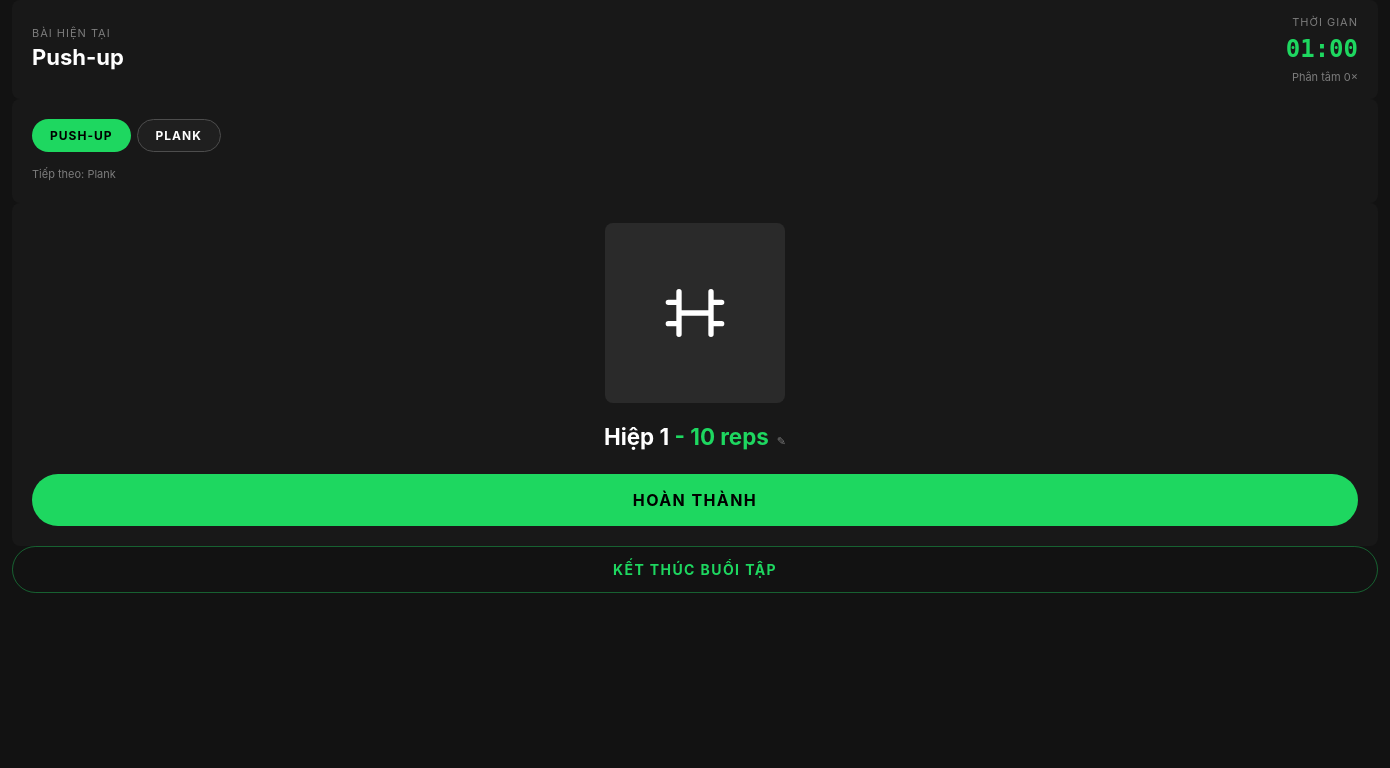
Test: WorkoutSession — màn tập trung tối giản (016) › bài duration tự ghi khi đếm về 0 rồi chuyển màn nghỉ
The width and height of the screenshot is (1390, 768).
What coordinates should you click on to do the following:
click the button "Plank"
I would click on:
 (179, 136)
Its box is [137,119,221,152].
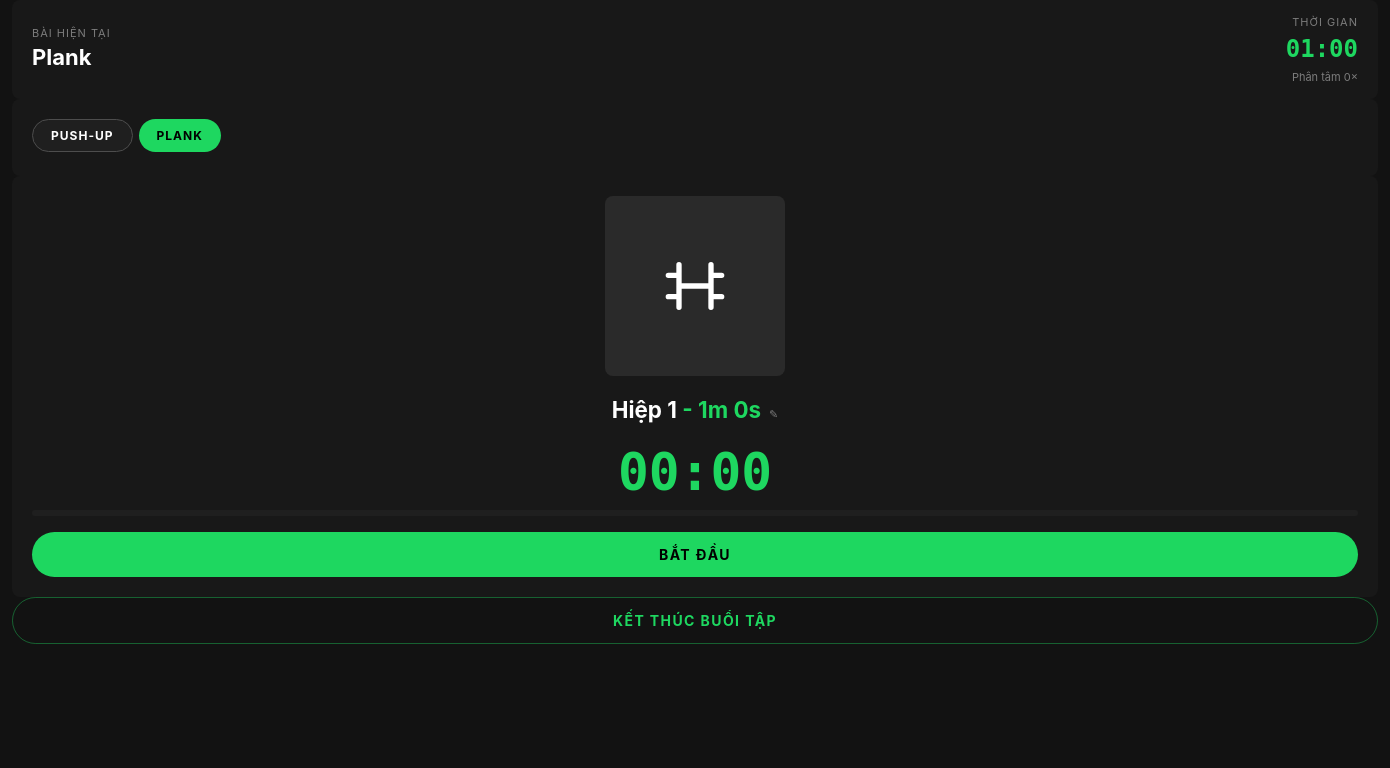
What coordinates should you click on to do the following:
click the button "Bắt đầu"
I would click on:
 (695, 555)
Its box is [32,532,1358,577].
Wait 60000 ms
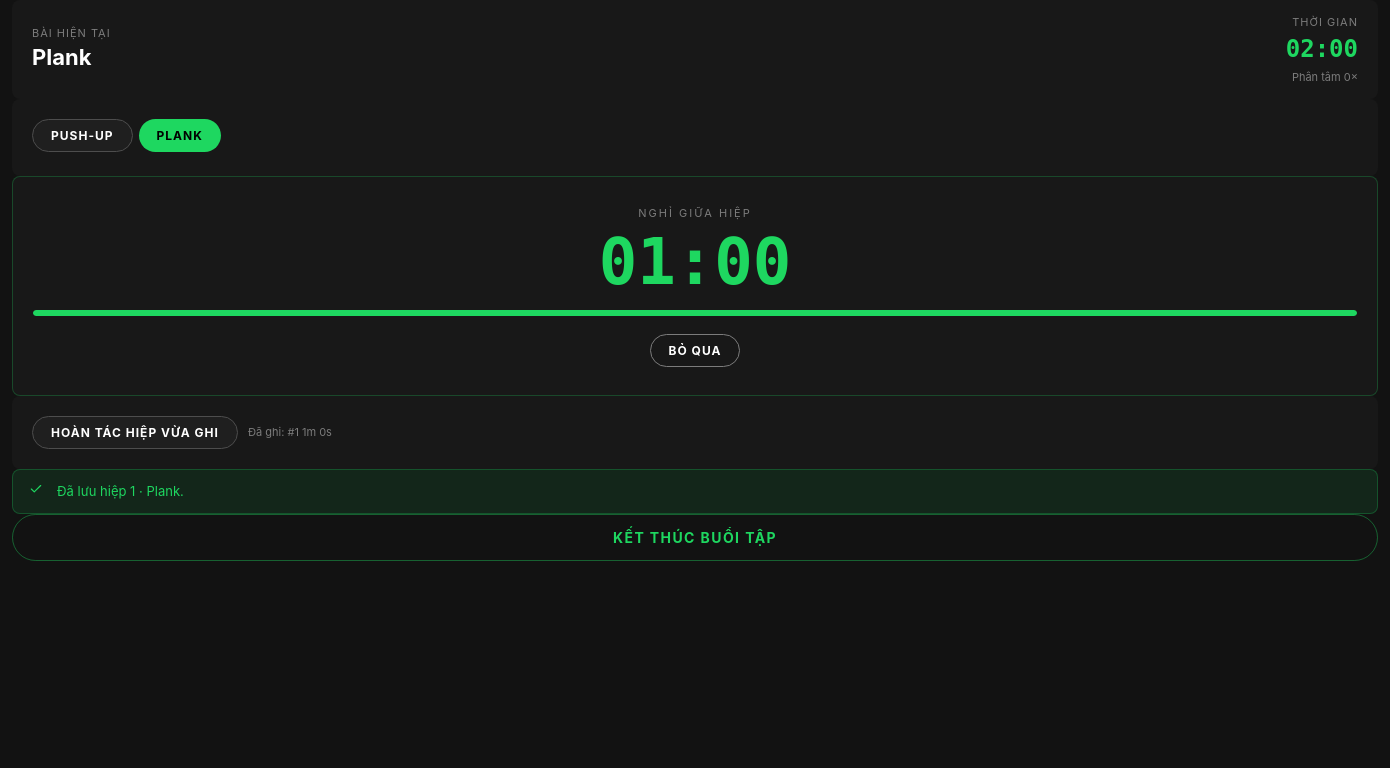
Now the text named "thời gian nghỉ" reads "01:00", box [599,224,791,298]
